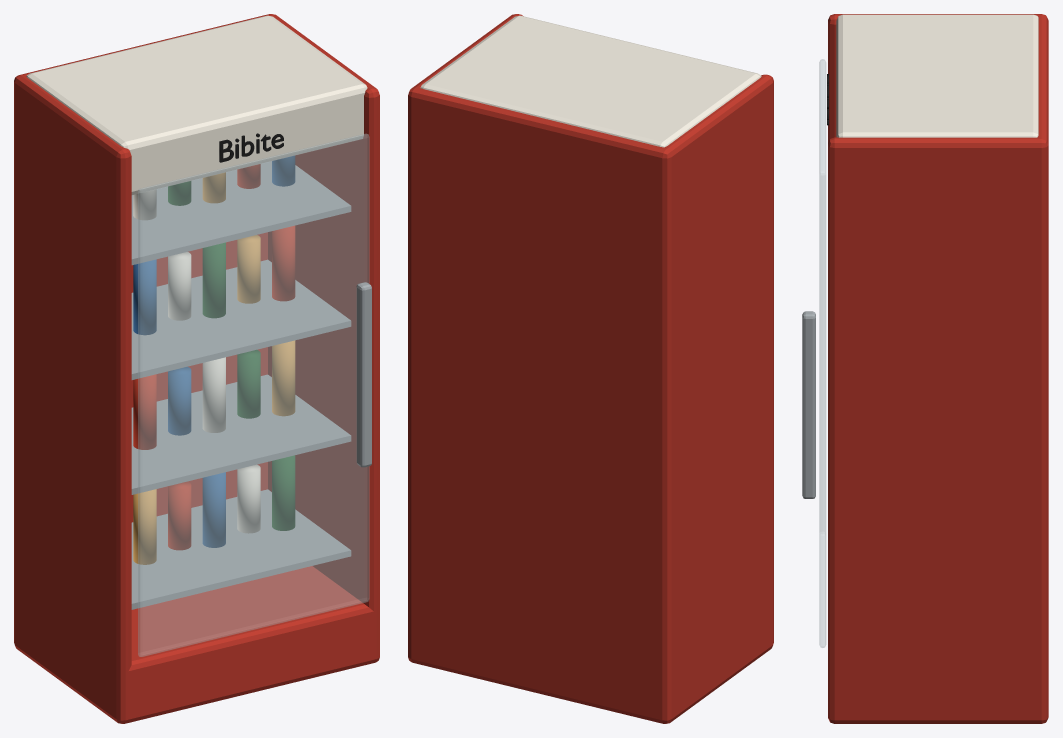
Rendered from vetrina-frigo.glb.
3 views of the same model, side by side, from view 1: azimuth 30°, elevation 25°; view 2: azimuth 150°, elevation 25°; view 3: azimuth 270°, elevation 25° (orthographic).
Visible parts, largest first — view 1: Cube.004, Cube.001, Cube.006, Cube.002, Cube.003, Cube.009, Cube.007, Cube.008, Cube.010, Cube, Cube.005, Cylinder.017 (+18 smaller); view 2: Cube, Cube.001, Cube.006, Cube.003, Cube.002; view 3: Cube.002, Cube.006, Cube.004, Cube.005, Cube, Cube.001.
Part boxes in pixels (x1,y1,x2,y2): Cube.004: (138, 134, 369, 656); Cube.001: (14, 74, 131, 723); Cube.006: (26, 15, 367, 194); Cube.002: (268, 14, 379, 663); Cube.003: (126, 566, 375, 723); Cube.009: (131, 259, 351, 379); Cube.007: (131, 489, 351, 609); Cube.008: (131, 374, 351, 494); Cube.010: (131, 161, 351, 265); Cube: (20, 14, 270, 522); Cube.005: (356, 282, 371, 467); Cylinder.017: (272, 225, 295, 301); Cube: (412, 87, 665, 723); Cube.001: (660, 74, 773, 723); Cube.006: (420, 15, 761, 147); Cube.003: (412, 612, 660, 718); Cube.002: (408, 14, 523, 663); Cube.002: (828, 137, 1048, 723); Cube.006: (836, 14, 1038, 137); Cube.004: (819, 59, 825, 647); Cube.005: (802, 311, 815, 498); Cube: (1037, 15, 1048, 143); Cube.001: (828, 14, 1048, 142).
Bounding box in the file's own units: 0.91 × 1.91 × 0.725.
